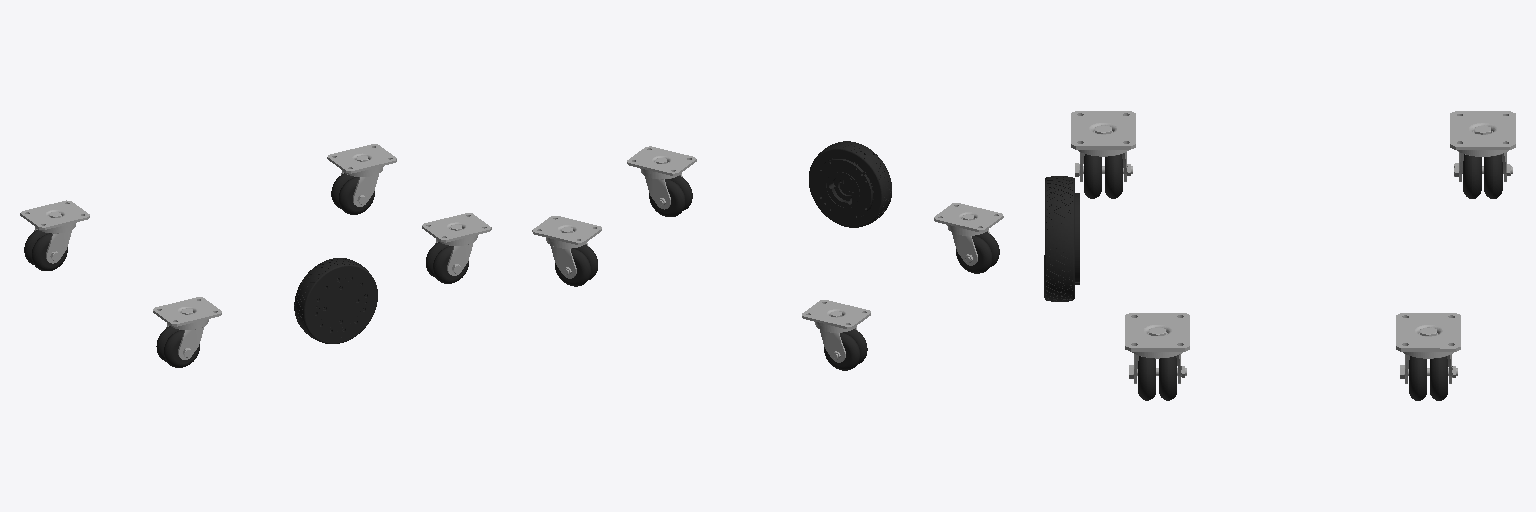
--- Facts derived from the render (not from the file) ---
Views: 3 orthographic renders of the robot side by side, from view 1: azimuth 30°, elevation 25°; view 2: azimuth 150°, elevation 25°; view 3: azimuth 270°, elevation 25°.
Robot: w3_600b — 27 links, 26 joints (3 revolute, 12 continuous, 1 prismatic, 10 fixed); root link world_link; default pose: all joints at 0.
Links seen in each view (by area): view 1: right_wheel, caster_support_fr, caster_support_fl, caster_support_br, caster_support_bl, caster_wheel_br_1, caster_wheel_bl_1, caster_wheel_fl_1, caster_wheel_fr_1; view 2: right_wheel, caster_support_bl, caster_support_br, caster_support_fl, caster_support_fr, caster_wheel_br_2, caster_wheel_bl_2, caster_wheel_fr_2, caster_wheel_fl_2; view 3: right_wheel, caster_support_bl, caster_support_fl, caster_support_br, caster_support_fr, caster_wheel_bl_1, caster_wheel_bl_2, caster_wheel_br_1, caster_wheel_fr_2, caster_wheel_fl_1, caster_wheel_fl_2, caster_wheel_fr_1 (+1 smaller).
Link boxes in pixels (x1,y1,x2,y2): right_wheel: (294,258,377,343); caster_support_fr: (422,213,491,275); caster_support_fl: (327,144,396,206); caster_support_br: (153,297,221,359); caster_support_bl: (20,200,89,263); caster_wheel_br_1: (164,330,199,367); caster_wheel_bl_1: (32,233,67,270); caster_wheel_fl_1: (339,177,374,214); caster_wheel_fr_1: (433,246,468,283); right_wheel: (809,141,891,227); caster_support_bl: (802,300,870,362); caster_support_br: (934,203,1003,265); caster_support_fl: (532,216,601,278); caster_support_fr: (627,146,696,209); caster_wheel_br_2: (956,236,991,273); caster_wheel_bl_2: (824,333,859,370); caster_wheel_fr_2: (649,179,684,216); caster_wheel_fl_2: (555,248,590,286); right_wheel: (1044,176,1079,301); caster_support_bl: (1450,111,1515,181); caster_support_fl: (1396,313,1460,383); caster_support_br: (1071,111,1135,181); caster_support_fr: (1125,313,1189,383); caster_wheel_bl_1: (1463,154,1481,198); caster_wheel_bl_2: (1484,155,1502,198); caster_wheel_br_1: (1084,154,1101,198); caster_wheel_fr_2: (1159,356,1176,400); caster_wheel_fl_1: (1409,356,1426,400); caster_wheel_fl_2: (1430,356,1447,400); caster_wheel_fr_1: (1138,356,1155,400).
Size in the robot's own frame: 0.7371 by 0.6154 by 0.1655 metres.
Meshes: 10 distinct files referenced, 13 mesh visuals loaded (4 binary STL); not drawn: 7 (reference not matched to a file when rendering).

The robot description file, URDF, robot "w3_600b":
<?xml version="1.0" ?>
<!-- =================================================================================== -->
<!-- |    This document was autogenerated by xacro from src/sim_models/models/robots/w3_600b/urdf/w3_600b.xacro | -->
<!-- |    EDITING THIS FILE BY HAND IS NOT RECOMMENDED                                 | -->
<!-- =================================================================================== -->
<robot name="w3_600b">
  <coppelia_file filename="[local-path]/sim/sim_ws/install/sim_models/share/sim_models/models/robots/w3_600b/files/CoppeliaSim/w3_600b.ttm"/>
  <!-- <xacro:property name="caster_support_z_offset" value="0"/>

  <xacro:property name="caster_wheel_x_offset" value="0"/>
  <xacro:property name="caster_wheel_y_offset" value="0"/>
  <xacro:property name="caster_wheel_z_offset" value="0"/> -->
  <!-- botão vermelho -->
  <!-- Material definitions -->
  <material name="blue_body">
    <color rgba="0.2 0.6 0.8 1.0"/>
  </material>
  <material name="dark_gray">
    <color rgba="0.2 0.2 0.2 1.0"/>
  </material>
  <material name="top_gray">
    <color rgba="0.6 0.6 0.6 1.0"/>
  </material>
  <material name="led_cyan">
    <color rgba="0.0 1.0 1.0 1.0"/>
  </material>
  <material name="led_pink">
    <color rgba="1.0 0.4 0.8 1.0"/>
  </material>
  <material name="button_green">
    <color rgba="0.0 0.8 0.0 1.0"/>
  </material>
  <material name="button_red">
    <color rgba="0.8 0.0 0.0 1.0"/>
  </material>
  <material name="silver">
    <color rgba="0.700 0.700 0.700 1.000"/>
  </material>
  <!-- STRUCTURE -->
  <link name="world_link"/>
  <link name="base_link">
    <inertial>
      <origin rpy="0 0 0" xyz="-0.001608 0.058048 -0.000259"/>
      <mass value="69.363439"/>
      <inertia ixx="3.742" ixy="-0.001876" ixz="0.001144" iyx="-0.001876" iyy="9.426" iyz="0.0002847" izx="0.001144" izy="0.0002847" izz="6.169"/>
    </inertial>
    <visual>
      <origin rpy="0 0 0" xyz="0 0 0"/>
      <geometry>
        <mesh filename="package://sim_models/models/robots/w3_600b/meshes/base_link_v2.stl" scale="0.001 0.001 0.001"/>
      </geometry>
      <material name="blue_body"/>
    </visual>
    <collision>
      <origin rpy="0 0 0" xyz="0 0 0"/>
      <geometry>
        <mesh filename="package://sim_models/models/robots/w3_600b/meshes/base.stl" scale="0.001 0.001 0.001"/>
      </geometry>
    </collision>
  </link>
  <gazebo reference="base_link">
    <material value="Gazebo/SkyBlue"/>
  </gazebo>
  <joint name="base_to_world" type="fixed">
    <parent link="world_link"/>
    <child link="base_link"/>
    <origin rpy="1.57 0 0" xyz="0 0 0"/>
  </joint>
  <!-- BACK RIGHT CASTER -->
  <link name="caster_wheel_br_1">
    <inertial>
      <origin rpy="0 0 0" xyz="0.0 0.0 0.013679895"/>
      <mass value="0.648186"/>
      <inertia ixx="32.110336" ixy="-0.000001493513" ixz="-0.000011677849" iyy="32.098568" iyz="0.000000016651" izz="57.71662"/>
    </inertial>
    <visual>
      <origin rpy="0 0 0" xyz="0 0 0"/>
      <geometry>
        <mesh filename="package://sim_models/models/robots/w3_600b/meshes/MANIFOLD_SOLID_BREP_6641.stl" scale="0.001 0.001 0.001"/>
      </geometry>
      <material name="dark_gray"/>
    </visual>
    <collision>
      <origin rpy="0 0 0" xyz="0 0 0.013065"/>
      <geometry>
        <cylinder length="0.02413" radius="0.0381"/>
      </geometry>
    </collision>
  </link>
  <gazebo reference="caster_wheel_br_1">
    <material value="Gazebo/Orange"/>
  </gazebo>
  <link name="caster_wheel_br_2">
    <inertial>
      <origin rpy="0 0 0" xyz="0.0 0.0 0.013679895"/>
      <mass value="0.648234"/>
      <inertia ixx="32.110336" ixy="-0.000001493513" ixz="-0.000011677849" iyy="32.098568" iyz="0.000000016651" izz="57.71662"/>
    </inertial>
    <visual>
      <origin rpy="0 0 0" xyz="0 0 0"/>
      <geometry>
        <mesh filename="package://sim_models/models/robots/w3_600b/meshes/MANIFOLD_SOLID_BREP_7274.stl" scale="0.001 0.001 0.001"/>
      </geometry>
      <material name="dark_gray"/>
    </visual>
    <collision>
      <origin rpy="0 0 0" xyz="0 0 -0.013065"/>
      <geometry>
        <cylinder length="0.02413" radius="0.0381"/>
      </geometry>
    </collision>
  </link>
  <gazebo reference="caster_wheel_br_2">
    <material value="Gazebo/Orange"/>
  </gazebo>
  <link name="caster_support_br">
    <inertial>
      <origin rpy="0 0 0" xyz="0.018014271 0.051245800 0.000070723"/>
      <mass value="1.304324"/>
      <inertia ixx="141.765056" ixy="-15.302794" ixz="0.211610422" iyy="172.001216" iyz="0.60176325" izz="146.500608"/>
    </inertial>
    <visual>
      <origin rpy="0 0 0" xyz="-0.02 -0.0685 0"/>
      <geometry>
        <mesh filename="package://sim_models/models/robots/w3_600b/meshes/BREP_WITH_VOIDS_6008.stl" scale="0.001 0.001 0.001"/>
      </geometry>
      <material name="silver"/>
    </visual>
    <!-- <collision>
                <origin xyz="${-caster_support_x_offset} ${-caster_support_y_offset} 0" rpy="0 0 0"/>
                <geometry>
                    <mesh filename="package://sim_models/models/${model_class}/${model}/meshes/BREP_WITH_VOIDS_6008.stl" scale="0.001 0.001 0.001"/>
                </geometry>
            </collision> -->
  </link>
  <gazebo reference="caster_support_br">
    <material value="Gazebo/Grey"/>
  </gazebo>
  <joint name="caster_support_br_joint" type="continuous">
    <parent link="base_link"/>
    <child link="caster_support_br"/>
    <origin rpy="0 0 0" xyz="-0.289 0.0816 0.248"/>
    <axis xyz="0 1 0"/>
  </joint>
  <!-- 1 wheel -->
  <joint name="caster_wheel_br_1_joint" type="continuous">
    <parent link="caster_support_br"/>
    <child link="caster_wheel_br_1"/>
    <origin rpy="0 0 0" xyz="-0.02 -0.0685 0"/>
    <axis xyz="0 0 1"/>
  </joint>
  <!-- 2 wheel -->
  <joint name="caster_wheel_br_2_joint" type="continuous">
    <parent link="caster_support_br"/>
    <child link="caster_wheel_br_2"/>
    <origin rpy="0 0 0" xyz="-0.02 -0.0685 0"/>
    <axis xyz="0 0 1"/>
  </joint>
  <!-- BACK RIGHT CASTER -->
  <link name="caster_wheel_bl_1">
    <inertial>
      <origin rpy="0 0 0" xyz="0.0 0.0 0.013679895"/>
      <mass value="0.648186"/>
      <inertia ixx="32.110336" ixy="-0.000001493513" ixz="-0.000011677849" iyy="32.098568" iyz="0.000000016651" izz="57.71662"/>
    </inertial>
    <visual>
      <origin rpy="0 0 0" xyz="0 0 0"/>
      <geometry>
        <mesh filename="package://sim_models/models/robots/w3_600b/meshes/MANIFOLD_SOLID_BREP_6641.stl" scale="0.001 0.001 0.001"/>
      </geometry>
      <material name="dark_gray"/>
    </visual>
    <collision>
      <origin rpy="0 0 0" xyz="0 0 0.013065"/>
      <geometry>
        <cylinder length="0.02413" radius="0.0381"/>
      </geometry>
    </collision>
  </link>
  <gazebo reference="caster_wheel_bl_1">
    <material value="Gazebo/Orange"/>
  </gazebo>
  <link name="caster_wheel_bl_2">
    <inertial>
      <origin rpy="0 0 0" xyz="0.0 0.0 0.013679895"/>
      <mass value="0.648234"/>
      <inertia ixx="32.110336" ixy="-0.000001493513" ixz="-0.000011677849" iyy="32.098568" iyz="0.000000016651" izz="57.71662"/>
    </inertial>
    <visual>
      <origin rpy="0 0 0" xyz="0 0 0"/>
      <geometry>
        <mesh filename="package://sim_models/models/robots/w3_600b/meshes/MANIFOLD_SOLID_BREP_7274.stl" scale="0.001 0.001 0.001"/>
      </geometry>
      <material name="dark_gray"/>
    </visual>
    <collision>
      <origin rpy="0 0 0" xyz="0 0 -0.013065"/>
      <geometry>
        <cylinder length="0.02413" radius="0.0381"/>
      </geometry>
    </collision>
  </link>
  <gazebo reference="caster_wheel_bl_2">
    <material value="Gazebo/Orange"/>
  </gazebo>
  <link name="caster_support_bl">
    <inertial>
      <origin rpy="0 0 0" xyz="0.018014271 0.051245800 0.000070723"/>
      <mass value="1.304324"/>
      <inertia ixx="141.765056" ixy="-15.302794" ixz="0.211610422" iyy="172.001216" iyz="0.60176325" izz="146.500608"/>
    </inertial>
    <visual>
      <origin rpy="0 0 0" xyz="-0.02 -0.0685 0"/>
      <geometry>
        <mesh filename="package://sim_models/models/robots/w3_600b/meshes/BREP_WITH_VOIDS_6008.stl" scale="0.001 0.001 0.001"/>
      </geometry>
      <material name="silver"/>
    </visual>
    <!-- <collision>
                <origin xyz="${-caster_support_x_offset} ${-caster_support_y_offset} 0" rpy="0 0 0"/>
                <geometry>
                    <mesh filename="package://sim_models/models/${model_class}/${model}/meshes/BREP_WITH_VOIDS_6008.stl" scale="0.001 0.001 0.001"/>
                </geometry>
            </collision> -->
  </link>
  <gazebo reference="caster_support_bl">
    <material value="Gazebo/Grey"/>
  </gazebo>
  <joint name="caster_support_bl_joint" type="continuous">
    <parent link="base_link"/>
    <child link="caster_support_bl"/>
    <origin rpy="0 0 0" xyz="-0.289 0.0816 -0.24800000000000003"/>
    <axis xyz="0 1 0"/>
  </joint>
  <!-- 1 wheel -->
  <joint name="caster_wheel_bl_1_joint" type="continuous">
    <parent link="caster_support_bl"/>
    <child link="caster_wheel_bl_1"/>
    <origin rpy="0 0 0" xyz="-0.02 -0.0685 0"/>
    <axis xyz="0 0 1"/>
  </joint>
  <!-- 2 wheel -->
  <joint name="caster_wheel_bl_2_joint" type="continuous">
    <parent link="caster_support_bl"/>
    <child link="caster_wheel_bl_2"/>
    <origin rpy="0 0 0" xyz="-0.02 -0.0685 0"/>
    <axis xyz="0 0 1"/>
  </joint>
  <!-- BACK RIGHT CASTER -->
  <link name="caster_wheel_fr_1">
    <inertial>
      <origin rpy="0 0 0" xyz="0.0 0.0 0.013679895"/>
      <mass value="0.648186"/>
      <inertia ixx="32.110336" ixy="-0.000001493513" ixz="-0.000011677849" iyy="32.098568" iyz="0.000000016651" izz="57.71662"/>
    </inertial>
    <visual>
      <origin rpy="0 0 0" xyz="0 0 0"/>
      <geometry>
        <mesh filename="package://sim_models/models/robots/w3_600b/meshes/MANIFOLD_SOLID_BREP_6641.stl" scale="0.001 0.001 0.001"/>
      </geometry>
      <material name="dark_gray"/>
    </visual>
    <collision>
      <origin rpy="0 0 0" xyz="0 0 0.013065"/>
      <geometry>
        <cylinder length="0.02413" radius="0.0381"/>
      </geometry>
    </collision>
  </link>
  <gazebo reference="caster_wheel_fr_1">
    <material value="Gazebo/Orange"/>
  </gazebo>
  <link name="caster_wheel_fr_2">
    <inertial>
      <origin rpy="0 0 0" xyz="0.0 0.0 0.013679895"/>
      <mass value="0.648234"/>
      <inertia ixx="32.110336" ixy="-0.000001493513" ixz="-0.000011677849" iyy="32.098568" iyz="0.000000016651" izz="57.71662"/>
    </inertial>
    <visual>
      <origin rpy="0 0 0" xyz="0 0 0"/>
      <geometry>
        <mesh filename="package://sim_models/models/robots/w3_600b/meshes/MANIFOLD_SOLID_BREP_7274.stl" scale="0.001 0.001 0.001"/>
      </geometry>
      <material name="dark_gray"/>
    </visual>
    <collision>
      <origin rpy="0 0 0" xyz="0 0 -0.013065"/>
      <geometry>
        <cylinder length="0.02413" radius="0.0381"/>
      </geometry>
    </collision>
  </link>
  <gazebo reference="caster_wheel_fr_2">
    <material value="Gazebo/Orange"/>
  </gazebo>
  <link name="caster_support_fr">
    <inertial>
      <origin rpy="0 0 0" xyz="0.018014271 0.051245800 0.000070723"/>
      <mass value="1.304324"/>
      <inertia ixx="141.765056" ixy="-15.302794" ixz="0.211610422" iyy="172.001216" iyz="0.60176325" izz="146.500608"/>
    </inertial>
    <visual>
      <origin rpy="0 0 0" xyz="-0.02 -0.0685 0"/>
      <geometry>
        <mesh filename="package://sim_models/models/robots/w3_600b/meshes/BREP_WITH_VOIDS_6008.stl" scale="0.001 0.001 0.001"/>
      </geometry>
      <material name="silver"/>
    </visual>
    <!-- <collision>
                <origin xyz="${-caster_support_x_offset} ${-caster_support_y_offset} 0" rpy="0 0 0"/>
                <geometry>
                    <mesh filename="package://sim_models/models/${model_class}/${model}/meshes/BREP_WITH_VOIDS_6008.stl" scale="0.001 0.001 0.001"/>
                </geometry>
            </collision> -->
  </link>
  <gazebo reference="caster_support_fr">
    <material value="Gazebo/Grey"/>
  </gazebo>
  <joint name="caster_support_fr_joint" type="continuous">
    <parent link="base_link"/>
    <child link="caster_support_fr"/>
    <origin rpy="0 0 0" xyz="0.335 0.0816 0.177"/>
    <axis xyz="0 1 0"/>
  </joint>
  <!-- 1 wheel -->
  <joint name="caster_wheel_fr_1_joint" type="continuous">
    <parent link="caster_support_fr"/>
    <child link="caster_wheel_fr_1"/>
    <origin rpy="0 0 0" xyz="-0.02 -0.0685 0"/>
    <axis xyz="0 0 1"/>
  </joint>
  <!-- 2 wheel -->
  <joint name="caster_wheel_fr_2_joint" type="continuous">
    <parent link="caster_support_fr"/>
    <child link="caster_wheel_fr_2"/>
    <origin rpy="0 0 0" xyz="-0.02 -0.0685 0"/>
    <axis xyz="0 0 1"/>
  </joint>
  <!-- BACK RIGHT CASTER -->
  <link name="caster_wheel_fl_1">
    <inertial>
      <origin rpy="0 0 0" xyz="0.0 0.0 0.013679895"/>
      <mass value="0.648186"/>
      <inertia ixx="32.110336" ixy="-0.000001493513" ixz="-0.000011677849" iyy="32.098568" iyz="0.000000016651" izz="57.71662"/>
    </inertial>
    <visual>
      <origin rpy="0 0 0" xyz="0 0 0"/>
      <geometry>
        <mesh filename="package://sim_models/models/robots/w3_600b/meshes/MANIFOLD_SOLID_BREP_6641.stl" scale="0.001 0.001 0.001"/>
      </geometry>
      <material name="dark_gray"/>
    </visual>
    <collision>
      <origin rpy="0 0 0" xyz="0 0 0.013065"/>
      <geometry>
        <cylinder length="0.02413" radius="0.0381"/>
      </geometry>
    </collision>
  </link>
  <gazebo reference="caster_wheel_fl_1">
    <material value="Gazebo/Orange"/>
  </gazebo>
  <link name="caster_wheel_fl_2">
    <inertial>
      <origin rpy="0 0 0" xyz="0.0 0.0 0.013679895"/>
      <mass value="0.648234"/>
      <inertia ixx="32.110336" ixy="-0.000001493513" ixz="-0.000011677849" iyy="32.098568" iyz="0.000000016651" izz="57.71662"/>
    </inertial>
    <visual>
      <origin rpy="0 0 0" xyz="0 0 0"/>
      <geometry>
        <mesh filename="package://sim_models/models/robots/w3_600b/meshes/MANIFOLD_SOLID_BREP_7274.stl" scale="0.001 0.001 0.001"/>
      </geometry>
      <material name="dark_gray"/>
    </visual>
    <collision>
      <origin rpy="0 0 0" xyz="0 0 -0.013065"/>
      <geometry>
        <cylinder length="0.02413" radius="0.0381"/>
      </geometry>
    </collision>
  </link>
  <gazebo reference="caster_wheel_fl_2">
    <material value="Gazebo/Orange"/>
  </gazebo>
  <link name="caster_support_fl">
    <inertial>
      <origin rpy="0 0 0" xyz="0.018014271 0.051245800 0.000070723"/>
      <mass value="1.304324"/>
      <inertia ixx="141.765056" ixy="-15.302794" ixz="0.211610422" iyy="172.001216" iyz="0.60176325" izz="146.500608"/>
    </inertial>
    <visual>
      <origin rpy="0 0 0" xyz="-0.02 -0.0685 0"/>
      <geometry>
        <mesh filename="package://sim_models/models/robots/w3_600b/meshes/BREP_WITH_VOIDS_6008.stl" scale="0.001 0.001 0.001"/>
      </geometry>
      <material name="silver"/>
    </visual>
    <!-- <collision>
                <origin xyz="${-caster_support_x_offset} ${-caster_support_y_offset} 0" rpy="0 0 0"/>
                <geometry>
                    <mesh filename="package://sim_models/models/${model_class}/${model}/meshes/BREP_WITH_VOIDS_6008.stl" scale="0.001 0.001 0.001"/>
                </geometry>
            </collision> -->
  </link>
  <gazebo reference="caster_support_fl">
    <material value="Gazebo/Grey"/>
  </gazebo>
  <joint name="caster_support_fl_joint" type="continuous">
    <parent link="base_link"/>
    <child link="caster_support_fl"/>
    <origin rpy="0 0 0" xyz="0.335 0.0816 -0.17700000000000002"/>
    <axis xyz="0 1 0"/>
  </joint>
  <!-- 1 wheel -->
  <joint name="caster_wheel_fl_1_joint" type="continuous">
    <parent link="caster_support_fl"/>
    <child link="caster_wheel_fl_1"/>
    <origin rpy="0 0 0" xyz="-0.02 -0.0685 0"/>
    <axis xyz="0 0 1"/>
  </joint>
  <!-- 2 wheel -->
  <joint name="caster_wheel_fl_2_joint" type="continuous">
    <parent link="caster_support_fl"/>
    <child link="caster_wheel_fl_2"/>
    <origin rpy="0 0 0" xyz="-0.02 -0.0685 0"/>
    <axis xyz="0 0 1"/>
  </joint>
  <link name="down_camera">
    <!-- <inertial>
                <origin xyz="${x} ${y} ${z}" rpy="0 0 0"/>
                <mass value="1.384936"/>
                <inertia ixx="0.00104" ixy="-7.659E-17" ixz="-0.000000000000008721" iyx="-7.659E-17" iyy="0.001219" iyz="-0.000010728685" izx="-0.000000000000008721" izy="-0.000010728685" izz="0.0005682"/>
            </inertial> -->
    <visual>
      <origin rpy="0 0 0" xyz="0 0 0"/>
      <geometry>
        <mesh filename="package://sim_models/models/robots/w3_600b/meshes/downward_camera.stl" scale="0.001 0.001 0.001"/>
      </geometry>
      <material name="silver"/>
    </visual>
    <!-- <collision>
                <origin xyz="0 0 0" rpy="0 0 0"/>
                <geometry>
                <mesh filename="package://sim_models/models/${model_class}/${model}/meshes/bottom_camera.stl" scale="0.001 0.001 0.001"/>
                </geometry>
            </collision> -->
  </link>
  <gazebo reference="down_camera">
    <material value="Gazebo/Orange"/>
  </gazebo>
  <joint name="down_camera_mesh_joint" type="fixed">
    <parent link="base_link"/>
    <child link="down_camera"/>
    <origin rpy="0 0 0" xyz="0 0 0"/>
  </joint>
  <link name="down_camera_link">
        </link>
  <joint name="down_camera_joint" type="fixed">
    <parent link="base_link"/>
    <child link="down_camera_link"/>
    <origin rpy="0 0 -1.57" xyz="0 0.05 0"/>
  </joint>
  <gazebo reference="down_camera_link">
    <sensor name="down_rgb" type="camera">
      <pose> 0 0 0 0 0 0 </pose>
      <visualize>false</visualize>
      <update_rate>5</update_rate>
      <camera>
        <horizontal_fov>1.047198</horizontal_fov>
        <!-- 60 degrees -->
        <vertical_fov>1.047198</vertical_fov>
        <!-- 60 degrees -->
        <image>
          <format>B8G8R8</format>
          <width>128</width>
          <height>128</height>
        </image>
        <clip>
          <near>0.028</near>
          <far>0.15</far>
        </clip>
      </camera>
      <plugin filename="libgazebo_ros_camera.so" name="down_rgb">
        <ros>
          <namespace>/r2d2/cam</namespace>
        </ros>
        <frame_name>down_camera_link</frame_name>
      </plugin>
    </sensor>
  </gazebo>
  <link name="up_camera">
    <!-- <inertial>
                <origin xyz="${x} ${y} ${z}" rpy="0 0 0"/>
                <mass value="1.384936"/>
                <inertia ixx="0.00104" ixy="-7.659E-17" ixz="-0.000000000000008721" iyx="-7.659E-17" iyy="0.001219" iyz="-0.000010728685" izx="-0.000000000000008721" izy="-0.000010728685" izz="0.0005682"/>
            </inertial> -->
    <visual>
      <origin rpy="0 0 0" xyz="0 0 0"/>
      <geometry>
        <mesh filename="package://sim_models/models/robots/w3_600b/meshes/upward_camera.stl" scale="0.001 0.001 0.001"/>
      </geometry>
      <material name="silver"/>
    </visual>
    <!-- <collision>
                <origin xyz="0 0 0" rpy="0 0 0"/>
                <geometry>
                <mesh filename="package://sim_models/models/${model_class}/${model}/meshes/bottom_camera.stl" scale="0.001 0.001 0.001"/>
                </geometry>
            </collision> -->
  </link>
  <gazebo reference="up_camera">
    <material value="Gazebo/Orange"/>
  </gazebo>
  <joint name="up_camera_mesh_joint" type="fixed">
    <parent link="base_link"/>
    <child link="up_camera"/>
    <origin rpy="0 0 0" xyz="0 0 0"/>
  </joint>
  <link name="up_camera_link">
        </link>
  <joint name="up_camera_joint" type="fixed">
    <parent link="base_link"/>
    <child link="up_camera_link"/>
    <origin rpy="3.14 0 1.57" xyz="0 0.175 0"/>
  </joint>
  <gazebo reference="up_camera_link">
    <sensor name="up_rgb" type="camera">
      <pose> 0 0 0 0 0 0 </pose>
      <visualize>false</visualize>
      <update_rate>5</update_rate>
      <camera>
        <horizontal_fov>1.047198</horizontal_fov>
        <!-- 60 degrees -->
        <vertical_fov>1.047198</vertical_fov>
        <!-- 60 degrees -->
        <image>
          <format>B8G8R8</format>
          <width>128</width>
          <height>128</height>
        </image>
        <clip>
          <near>0.028</near>
          <far>0.15</far>
        </clip>
      </camera>
      <plugin filename="libgazebo_ros_camera.so" name="up_rgb">
        <ros>
          <namespace>/r2d2/cam</namespace>
        </ros>
        <frame_name>up_camera_link</frame_name>
      </plugin>
    </sensor>
  </gazebo>
  <link name="front_lidar">
    <!-- <inertial>
                <origin xyz="0.423797 0.139017 0.011563" rpy="0 0 0"/>
                <mass value="0.569677"/>
                <inertia ixx="0.0009071" ixy="0.000000243534" ixz="0.000014337829" iyx="0.000000243534" iyy="0.0008086" iyz="0.000074824692" izx="0.000014337829" izy="0.000074824692" izz="0.0005095"/>
            </inertial> -->
    <visual>
      <origin rpy="0 0 0" xyz="0 0 0"/>
      <geometry>
        <mesh filename="package://sim_models/models/robots/w3_600b/meshes/back_lidar.stl" scale="0.001 0.001 0.001"/>
      </geometry>
      <material name="silver"/>
    </visual>
    <!-- <collision>
                <origin xyz="0 0 0" rpy="0 0 0"/>
                <material name="silver"/>
                <geometry>
                    <mesh filename="package://sim_models/models/${model_class}/${model}/meshes/${name}_lidar.stl" scale="0.001 0.001 0.001"/>
                </geometry>
            </collision> -->
  </link>
  <gazebo reference="front_lidar">
    <material value="Gazebo/DarkGrey"/>
  </gazebo>
  <joint name="front_lidar_mesh_joint" type="fixed">
    <parent link="base_link"/>
    <child link="front_lidar"/>
    <origin rpy="0 3.14 0" xyz="0 0 0"/>
  </joint>
  <link name="front_lidar_link">
        </link>
  <joint name="front_lidar_joint" type="fixed">
    <parent link="base_link"/>
    <child link="front_lidar_link"/>
    <origin rpy="-1.57 -1.57 0" xyz="0.424631 0.1765 0"/>
  </joint>
  <gazebo reference="front_lidar_link">
    <!-- <material value="Gazebo/Yellow" /> -->
    <!-- <material value="Gazebo/FlatBlack" /> -->
    <sensor name="front" type="ray">
      <pose>0 0 0 0 0 0</pose>
      <!-- <visualize>true</visualize> -->
      <update_rate>30</update_rate>
      <ray>
        <scan>
          <horizontal>
            <samples>1800</samples>
            <resolution>1</resolution>
            <!-- has to be 1; actual resolution will be computed from number of samples + min_angle/max_angle -->
            <min_angle>0</min_angle>
            <max_angle>3.1415</max_angle>
          </horizontal>
        </scan>
        <range>
          <min>0.1</min>
          <max>40.0</max>
          <resolution>0.01</resolution>
        </range>
        <noise>
          <type>gaussian</type>
          <!-- Noise parameters based on published spec for S300 achieving
                            "+-29mm" accuracy at range < 3m (~0.01 of the range) at
                            1 sigma. -->
          <mean>0.0</mean>
          <stddev>0.03</stddev>
        </noise>
      </ray>
      <plugin filename="libgazebo_ros_ray_sensor.so" name="front">
        <ros>
          <namespace>/r2d2/lidar</namespace>
          <remapping>front/out:=front/scan</remapping>
        </ros>
        <output_type>sensor_msgs/LaserScan</output_type>
        <frame_name>front_lidar_link</frame_name>
      </plugin>
    </sensor>
  </gazebo>
  <link name="back_lidar">
    <!-- <inertial>
                <origin xyz="0.423797 0.139017 0.011563" rpy="0 0 0"/>
                <mass value="0.569677"/>
                <inertia ixx="0.0009071" ixy="0.000000243534" ixz="0.000014337829" iyx="0.000000243534" iyy="0.0008086" iyz="0.000074824692" izx="0.000014337829" izy="0.000074824692" izz="0.0005095"/>
            </inertial> -->
    <visual>
      <origin rpy="0 0 0" xyz="0 0 0"/>
      <geometry>
        <mesh filename="package://sim_models/models/robots/w3_600b/meshes/back_lidar.stl" scale="0.001 0.001 0.001"/>
      </geometry>
      <material name="silver"/>
    </visual>
    <!-- <collision>
                <origin xyz="0 0 0" rpy="0 0 0"/>
                <material name="silver"/>
                <geometry>
                    <mesh filename="package://sim_models/models/${model_class}/${model}/meshes/${name}_lidar.stl" scale="0.001 0.001 0.001"/>
                </geometry>
            </collision> -->
  </link>
  <gazebo reference="back_lidar">
    <material value="Gazebo/DarkGrey"/>
  </gazebo>
  <joint name="back_lidar_mesh_joint" type="fixed">
    <parent link="base_link"/>
    <child link="back_lidar"/>
    <origin rpy="0 0 0" xyz="0 0 0"/>
  </joint>
  <link name="back_lidar_link">
        </link>
  <joint name="back_lidar_joint" type="fixed">
    <parent link="base_link"/>
    <child link="back_lidar_link"/>
    <origin rpy="-1.57 1.57 0" xyz="-0.424631 0.1765 0"/>
  </joint>
  <gazebo reference="back_lidar_link">
    <!-- <material value="Gazebo/Yellow" /> -->
    <!-- <material value="Gazebo/FlatBlack" /> -->
    <sensor name="back" type="ray">
      <pose>0 0 0 0 0 0</pose>
      <!-- <visualize>true</visualize> -->
      <update_rate>30</update_rate>
      <ray>
        <scan>
          <horizontal>
            <samples>1800</samples>
            <resolution>1</resolution>
            <!-- has to be 1; actual resolution will be computed from number of samples + min_angle/max_angle -->
            <min_angle>0</min_angle>
            <max_angle>3.1415</max_angle>
          </horizontal>
        </scan>
        <range>
          <min>0.1</min>
          <max>40.0</max>
          <resolution>0.01</resolution>
        </range>
        <noise>
          <type>gaussian</type>
          <!-- Noise parameters based on published spec for S300 achieving
                            "+-29mm" accuracy at range < 3m (~0.01 of the range) at
                            1 sigma. -->
          <mean>0.0</mean>
          <stddev>0.03</stddev>
        </noise>
      </ray>
      <plugin filename="libgazebo_ros_ray_sensor.so" name="back">
        <ros>
          <namespace>/r2d2/lidar</namespace>
          <remapping>back/out:=back/scan</remapping>
        </ros>
        <output_type>sensor_msgs/LaserScan</output_type>
        <frame_name>back_lidar_link</frame_name>
      </plugin>
    </sensor>
  </gazebo>
  <link name="imu_link">
    <inertial>
      <mass value="0.01"/>
      <origin rpy="0 0 0" xyz="0 0 0"/>
      <inertia ixx="1e-6" ixy="0.0" ixz="0.0" iyy="1e-6" iyz="0.0" izz="1e-6"/>
    </inertial>
  </link>
  <!-- Junta fixa do IMU ao corpo -->
  <joint name="imu_joint" type="fixed">
    <parent link="base_link"/>
    <child link="imu_link"/>
    <origin rpy="1.57 0 0" xyz="0 0.1 0"/>
    <!-- posição relativa -->
  </joint>
  <gazebo reference="imu_link">
    <sensor name="imu_sensor" type="imu">
      <always_on>true</always_on>
      <update_rate>100</update_rate>
      <!-- <visualize>true</visualize> -->
    </sensor>
  </gazebo>
  <link name="left_wheel">
    <inertial>
      <origin rpy="0 0 0" xyz="-0.000216 0.057568 -0.271782"/>
      <mass value="9.185826"/>
      <inertia ixx="0.02957" ixy="-0.000044741546" ixz="0.0001326" iyx="-0.000044741546" iyy="0.03102" iyz="0.000007781675" izx="0.0001326" izy="0.000007781675" izz="0.02782"/>
    </inertial>
    <visual>
      <origin rpy="0 0 0" xyz="0 0 0.147197"/>
      <geometry>
        <mesh filename="package://sim_models/models/robots/w3_600b/meshes/left_wheel.stl" scale="0.001 0.001 0.001"/>
      </geometry>
      <material name="dark_gray"/>
    </visual>
    <collision>
      <origin rpy="0 0 0" xyz="0 0 -0.023"/>
      <geometry>
        <cylinder length="0.046" radius="0.0825"/>
      </geometry>
    </collision>
  </link>
  <gazebo reference="left_wheel">
    <material value="Gazebo/DarkGrey"/>
  </gazebo>
  <joint name="left_wheel_joint" type="revolute">
    <parent link="base_link"/>
    <child link="left_wheel"/>
    <origin rpy="0 0 0" xyz="0 0.0575 -0.27875"/>
    <limit effort="22" lower="-6.28" upper="6.28" velocity="219.8"/>
    <axis xyz="0 0 1"/>
  </joint>
  <link name="right_wheel">
    <inertial>
      <origin rpy="0 0 0" xyz="0.000216 0.057568 0.271782"/>
      <mass value="9.185826"/>
      <inertia ixx="0.02957" ixy="0.000044741546" ixz="0.0001326" iyx="0.000044741546" iyy="0.03102" iyz="-0.000007781675" izx="0.0001326" izy="-0.000007781675" izz="0.02782"/>
    </inertial>
    <visual>
      <origin rpy="0 0 0" xyz="0 0 0.147197"/>
      <geometry>
        <mesh filename="package://sim_models/models/robots/w3_600b/meshes/right_wheel.stl" scale="0.001 0.001 0.001"/>
      </geometry>
      <material name="dark_gray"/>
    </visual>
    <collision>
      <origin rpy="0 0 0" xyz="0 0 -0.023"/>
      <geometry>
        <cylinder length="0.046" radius="0.0825"/>
      </geometry>
    </collision>
  </link>
  <gazebo reference="right_wheel">
    <material value="Gazebo/DarkGrey"/>
  </gazebo>
  <joint name="right_wheel_joint" type="revolute">
    <parent link="base_link"/>
    <child link="right_wheel"/>
    <origin rpy="0 3.14 0" xyz="0 0.0575 0.27875"/>
    <limit effort="22" lower="-6.28" upper="6.28" velocity="219.8"/>
    <axis xyz="0 0 1"/>
  </joint>
  <link name="tray">
    <inertial>
      <origin rpy="0 0 0" xyz="0 0 0"/>
      <mass value="58.666118"/>
      <inertia ixx="2.038" ixy="0.000005613643" ixz="-0.000000000000003583" iyx="0.000005613643" iyy="5.914" iyz="-0.00000000000002564" izx="-0.000000000000003583" izy="-0.00000000000002564" izz="3.878"/>
    </inertial>
    <visual>
      <origin rpy="0 0 0" xyz="0 -0.218468 0"/>
      <geometry>
        <mesh filename="package://sim_models/models/robots/w3_600b/meshes/tray.stl" scale="0.001 0.001 0.001"/>
      </geometry>
      <material name="top_gray"/>
    </visual>
    <collision>
      <origin rpy="0 0 0" xyz="0 0 0"/>
      <geometry>
        <box size="0.924 0.014 0.650"/>
      </geometry>
    </collision>
  </link>
  <gazebo reference="tray">
    <material value="Gazebo/DarkGrey"/>
  </gazebo>
  <link name="rotating_base_link">
    <inertial>
      <origin rpy="0 0 0" xyz="0 0 0"/>
      <mass value="58.666118"/>
      <inertia ixx="2.038" ixy="0.000005613643" ixz="-0.000000000000003583" iyx="0.000005613643" iyy="5.914" iyz="-0.00000000000002564" izx="-0.000000000000003583" izy="-0.00000000000002564" izz="3.878"/>
    </inertial>
  </link>
  <joint name="tray_revolute_joint" type="revolute">
    <parent link="base_link"/>
    <child link="rotating_base_link"/>
    <origin rpy="0 0 0" xyz="0 0.218468 0"/>
    <axis xyz="0 1 0"/>
    <limit effort="5886" lower="-6.28" upper="6.28" velocity="5.233333333333334"/>
    <dynamics damping="0.5" friction="0.1"/>
  </joint>
  <joint name="tray_prismatic_joint" type="prismatic">
    <parent link="rotating_base_link"/>
    <child link="tray"/>
    <origin rpy="0 0 0" xyz="0 0 0"/>
    <axis xyz="0 1 0"/>
    <limit effort="5886" lower="0" upper="0.06" velocity="0.013"/>
  </joint>
  <!-- CONTROL -->
  <ros2_control name="GazeboSystem" type="system">
    <hardware>
      <plugin>gazebo_ros2_control/GazeboSystem</plugin>
    </hardware>
    <joint name="left_wheel_joint">
      <command_interface name="velocity"/>
      <state_interface name="position"/>
      <state_interface name="velocity"/>
    </joint>
    <joint name="right_wheel_joint">
      <command_interface name="velocity"/>
      <state_interface name="velocity"/>
      <state_interface name="position"/>
    </joint>
    <joint name="tray_revolute_joint">
      <command_interface name="position"/>
      <state_interface name="velocity"/>
      <state_interface name="position"/>
    </joint>
    <joint name="tray_prismatic_joint">
      <command_interface name="position"/>
      <state_interface name="velocity"/>
      <state_interface name="position"/>
    </joint>
    <sensor name="imu_sensor">
      <state_interface name="orientation.x"/>
      <state_interface name="orientation.y"/>
      <state_interface name="orientation.z"/>
      <state_interface name="orientation.w"/>
      <state_interface name="angular_velocity.x"/>
      <state_interface name="angular_velocity.y"/>
      <state_interface name="angular_velocity.z"/>
      <state_interface name="linear_acceleration.x"/>
      <state_interface name="linear_acceleration.y"/>
      <state_interface name="linear_acceleration.z"/>
    </sensor>
  </ros2_control>
  <gazebo>
    <plugin filename="libgazebo_ros2_control.so" name="gazebo_ros2_control">
      <ros>
        <namespace>r2d2</namespace>
        <!-- <remapping>/$(arg model_name)/joint_states:=encoders/joint_states</remapping>
        <remapping>/$(arg model_name)/dynamic_joint_states:=encoders/dynamic_joint_states</remapping> -->
      </ros>
      <parameters>[local-path]/sim/sim_ws/install/sim_models/share/sim_models/models/robots/w3_600b/config/w3_600b_controllers.yaml</parameters>
    </plugin>
  </gazebo>
</robot>
